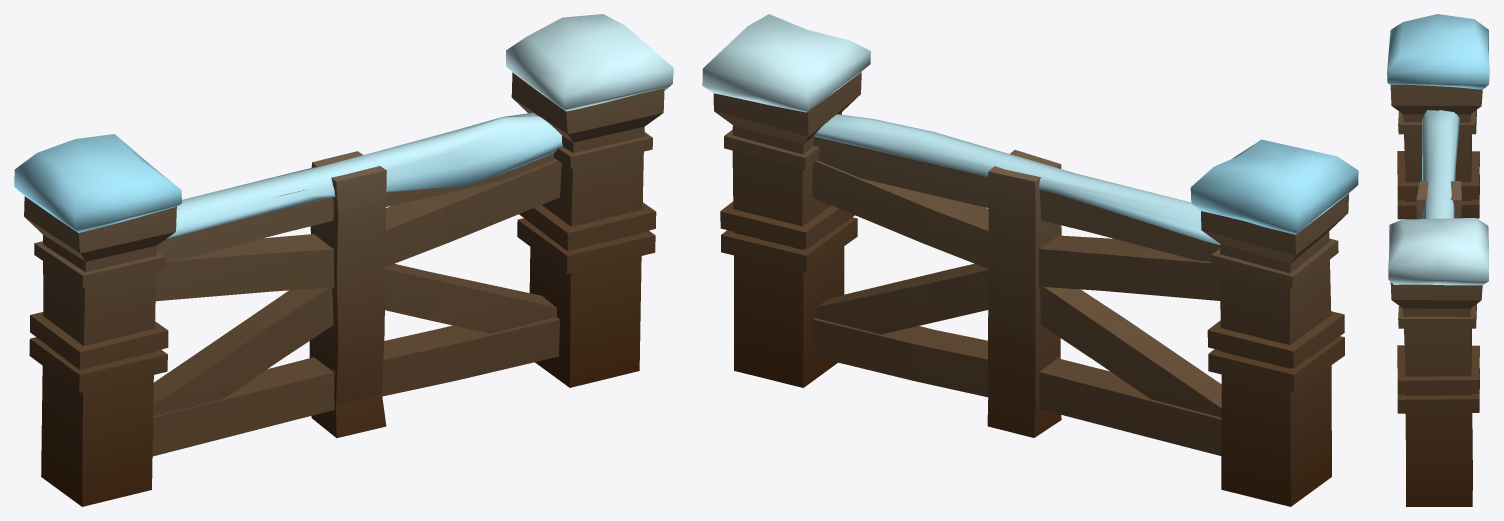
File: Fence_Winter_0_1.fbx
3 renders of one model, left to right at view 1: azimuth 30°, elevation 25°; view 2: azimuth 150°, elevation 25°; view 3: azimuth 270°, elevation 25°, orthographic. The views are drawn at different scales.
Visible parts, largest first — view 1: Wood_Fence_Medium_0_1.001; view 2: Wood_Fence_Medium_0_1.001; view 3: Wood_Fence_Medium_0_1.001.
Boxes of the visible parts, x1=… form: Wood_Fence_Medium_0_1.001: x1=14, y1=14, x2=673, y2=506; Wood_Fence_Medium_0_1.001: x1=702, y1=14, x2=1358, y2=506; Wood_Fence_Medium_0_1.001: x1=1387, y1=14, x2=1489, y2=506.
Size of the model in its own units: 243 by 128 by 44.41.
